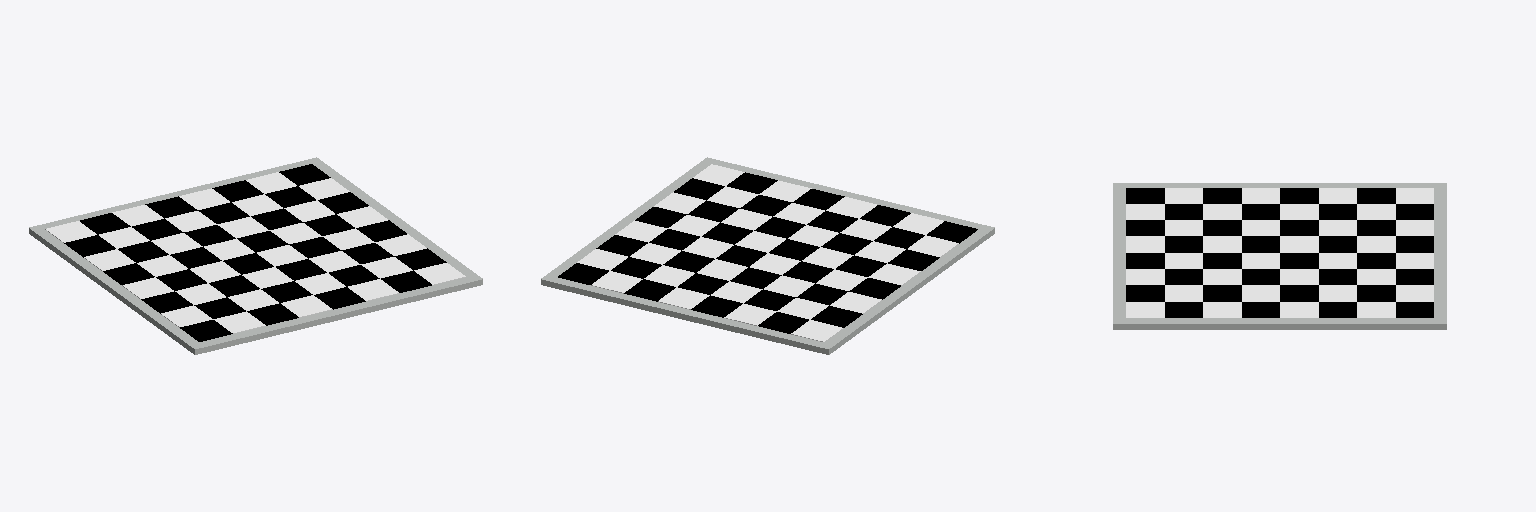
Rendered from boardtextest.obj.
3 renders of one model, left to right at view 1: azimuth 30°, elevation 25°; view 2: azimuth 150°, elevation 25°; view 3: azimuth 270°, elevation 25°, orthographic.
Visible parts, largest first — view 1: Plane.001_Plane.002, Plane.002_Plane.001, Plane_Plane.003; view 2: Plane.002_Plane.001, Plane.001_Plane.002, Plane_Plane.003; view 3: Plane.001_Plane.002, Plane.002_Plane.001, Plane_Plane.003.
Part boxes in pixels (bbox=[...]): Plane.001_Plane.002: bbox=[64, 164, 446, 341]; Plane.002_Plane.001: bbox=[45, 172, 465, 333]; Plane_Plane.003: bbox=[29, 157, 482, 354]; Plane.002_Plane.001: bbox=[577, 164, 958, 341]; Plane.001_Plane.002: bbox=[558, 172, 977, 333]; Plane_Plane.003: bbox=[541, 157, 994, 354]; Plane.001_Plane.002: bbox=[1126, 188, 1433, 317]; Plane.002_Plane.001: bbox=[1126, 188, 1433, 317]; Plane_Plane.003: bbox=[1113, 183, 1446, 329].
Size of the model in its own units: 17.29 by 0.3642 by 17.29.